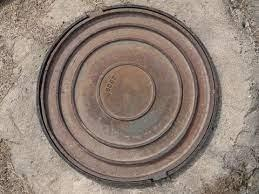closed manhole-not overflowing-: (29, 4, 226, 190)
